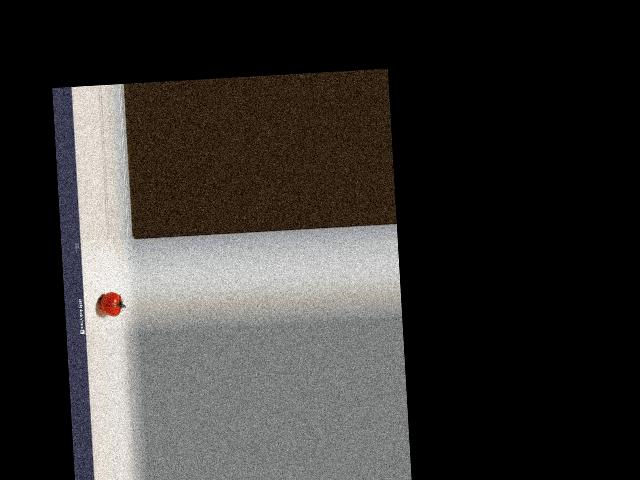tomato: (99, 291, 121, 316)
